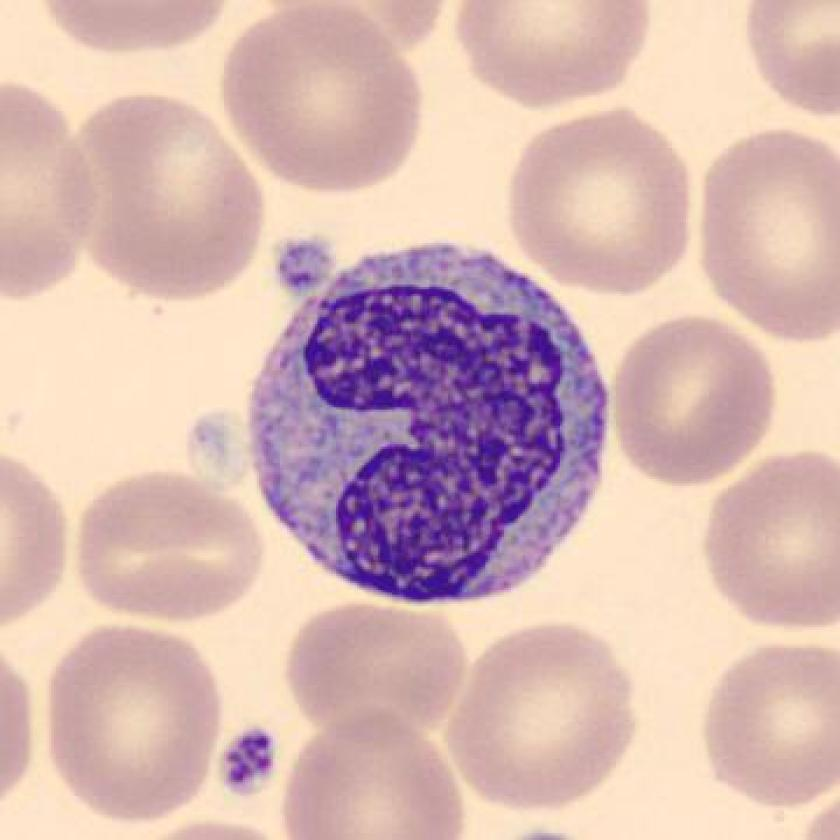monocyte: (228, 212, 634, 624)
